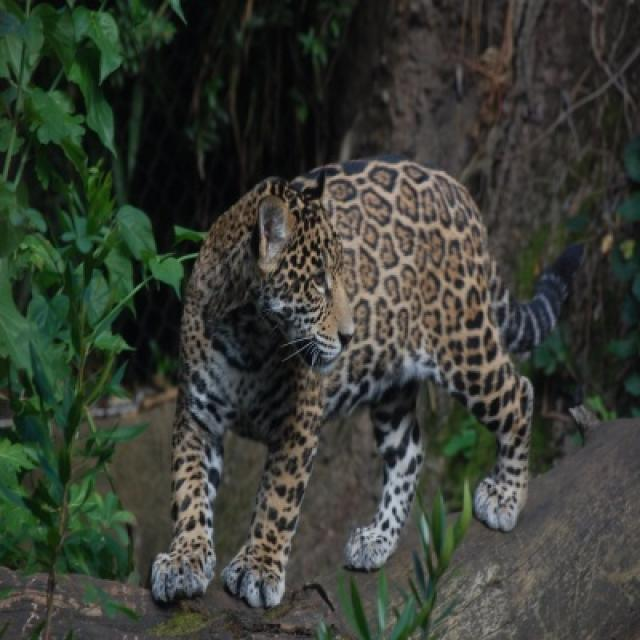Jaguar: (149, 158, 534, 611)
